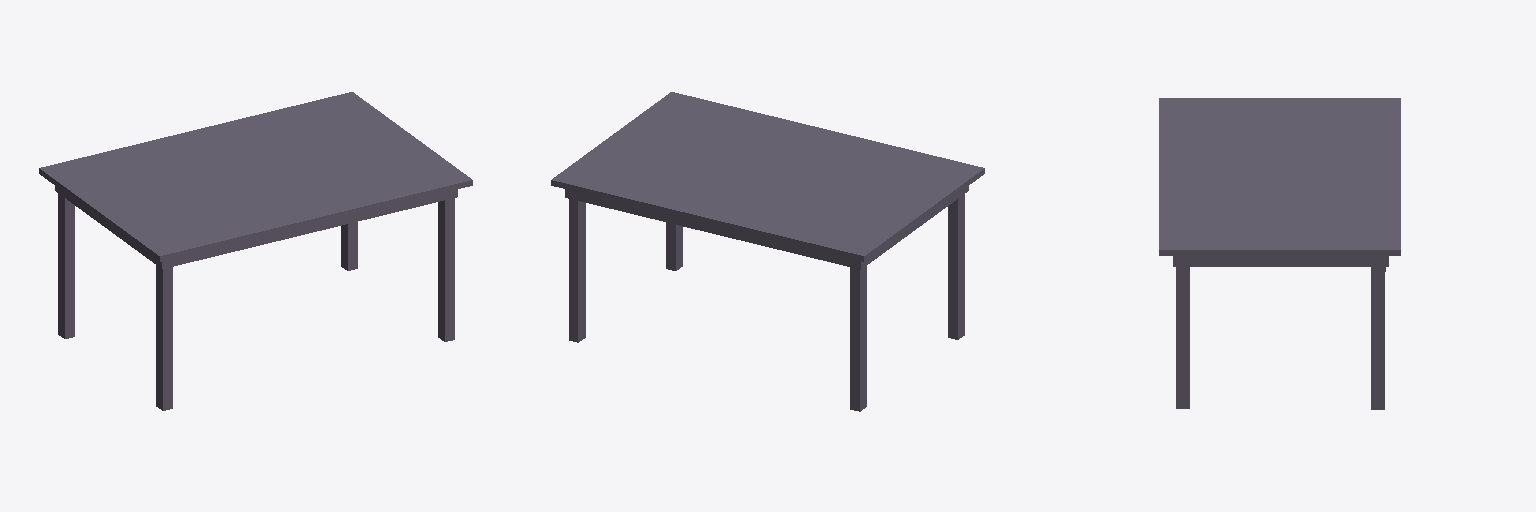
File: table.obj
The picture shows the model from 3 angles: view 1: azimuth 30°, elevation 25°; view 2: azimuth 150°, elevation 25°; view 3: azimuth 270°, elevation 25°; orthographic projection.
Visible parts, largest first — view 1: table_pCube9.001; view 2: table_pCube9.001; view 3: table_pCube9.001.
Boxes of the visible parts, x1,y1,x2,y2 form: table_pCube9.001: [39, 92, 472, 410]; table_pCube9.001: [551, 92, 984, 411]; table_pCube9.001: [1159, 98, 1400, 409].
Bounding box in the file's own units: 1.21 × 0.6026 × 0.8034.